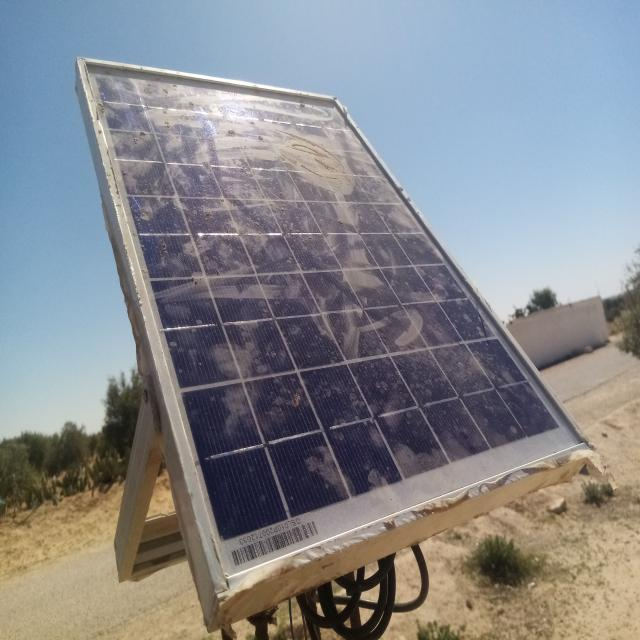faulty: (80, 62, 592, 591)
